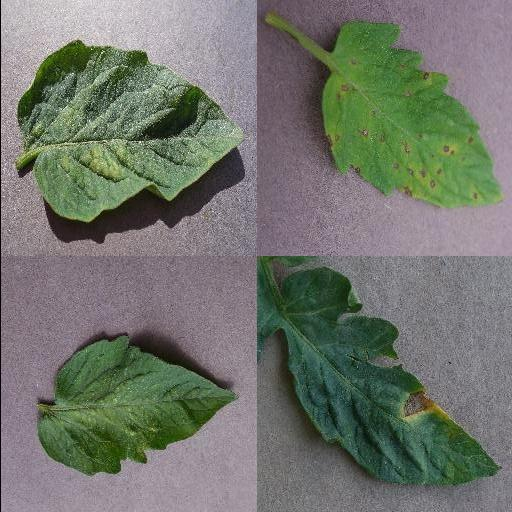Early Blight: (283, 268, 499, 488)
Septoria: (319, 24, 505, 211)
Spider Mites: (17, 41, 247, 223), (35, 335, 239, 477)
